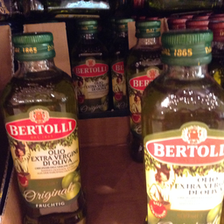oil: (2, 32, 85, 223), (142, 30, 222, 223), (74, 20, 111, 113)
